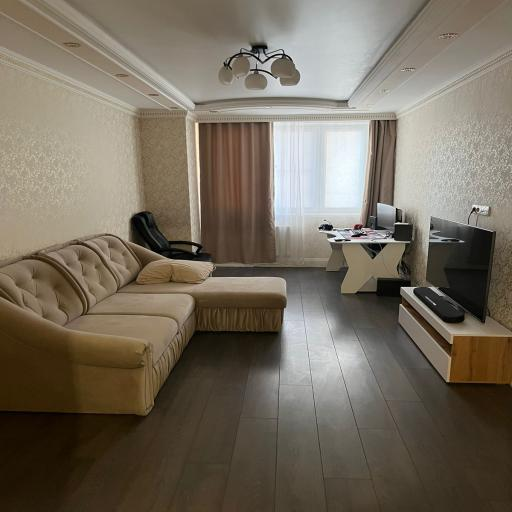hole: (0, 234, 286, 415)
phone: (318, 224, 410, 294)
